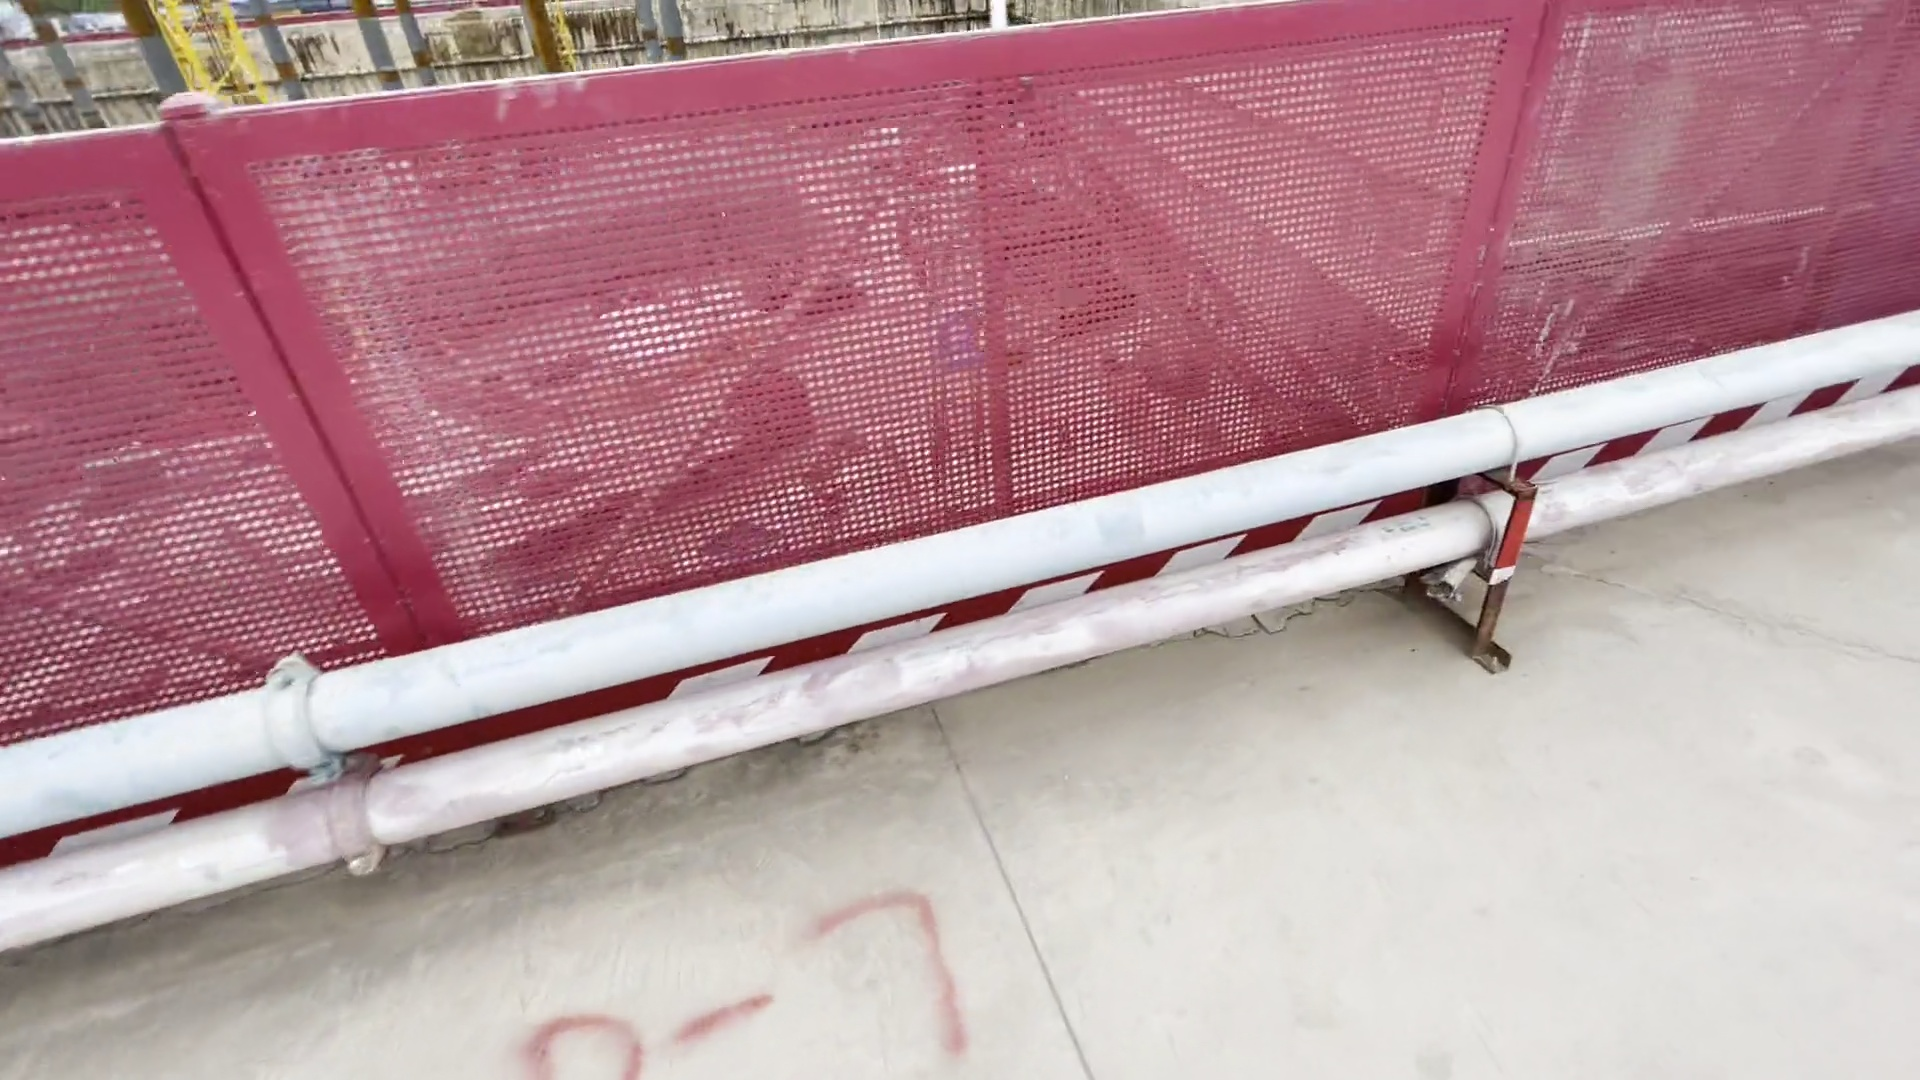fence: (1, 1, 1920, 725)
